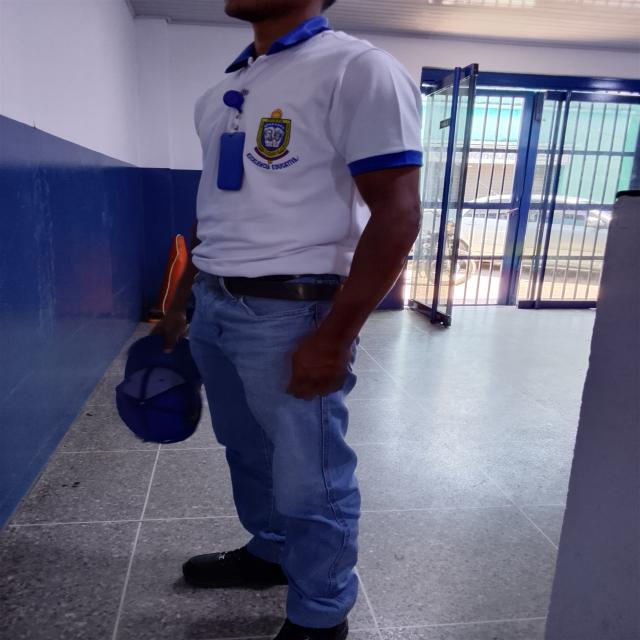carnet: (217, 132, 246, 190)
uniforme_superior: (193, 15, 423, 278)
